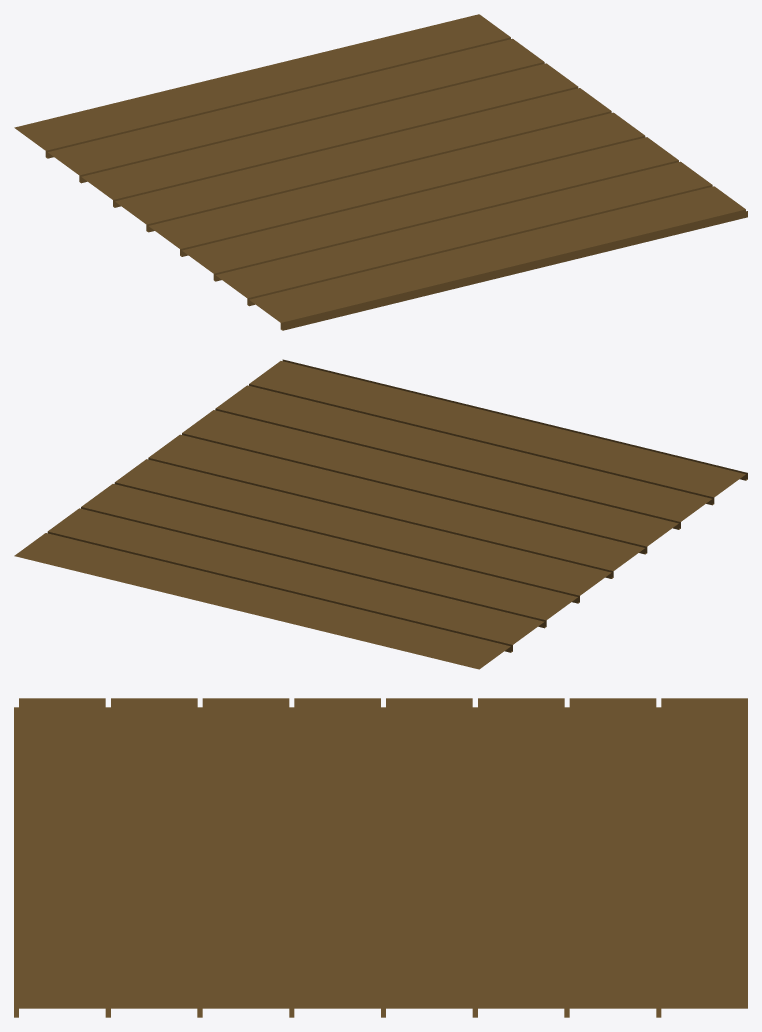
Rendered from FloorWoodPlanks2x2.fbx.
3 renders of one model, top to bottom at view 1: azimuth 30°, elevation 25°; view 2: azimuth 150°, elevation 25°; view 3: azimuth 270°, elevation 25°, orthographic. The views are drawn at different scales.
Visible parts, largest first — view 1: FloorWood2x2; view 2: FloorWood2x2; view 3: FloorWood2x2.
Part boxes in pixels (box(x1,y1,x2,y2)): FloorWood2x2: box(14, 14, 747, 330); FloorWood2x2: box(14, 359, 747, 669); FloorWood2x2: box(14, 698, 747, 1017).
Bounding box in the file's own units: 200 × 2.68 × 200.
